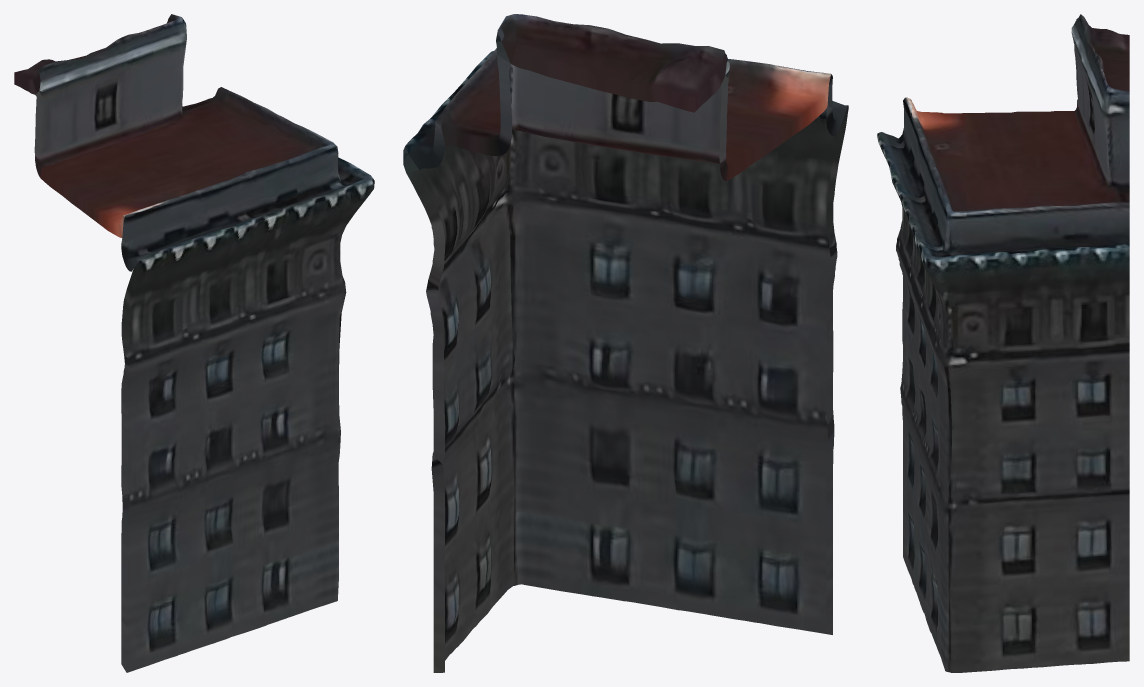
The model's file is z20-167747-405247-h1-yup-uvflip-v3-world.glb.
3 views of the same model, side by side, from view 1: azimuth 30°, elevation 25°; view 2: azimuth 150°, elevation 25°; view 3: azimuth 270°, elevation 25° (orthographic). The views are drawn at different scales.
Bounding box in the file's own units: 13.68 × 27.04 × 11.32.
1 material, 1 textured.
